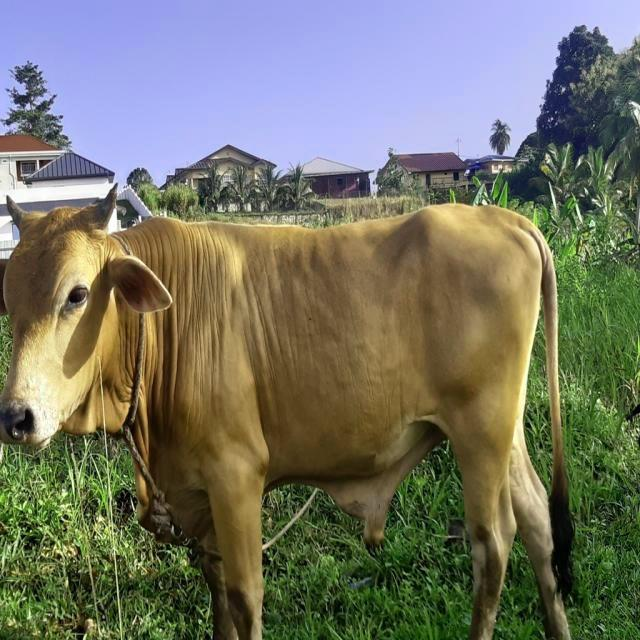cow: (0, 188, 572, 640)
